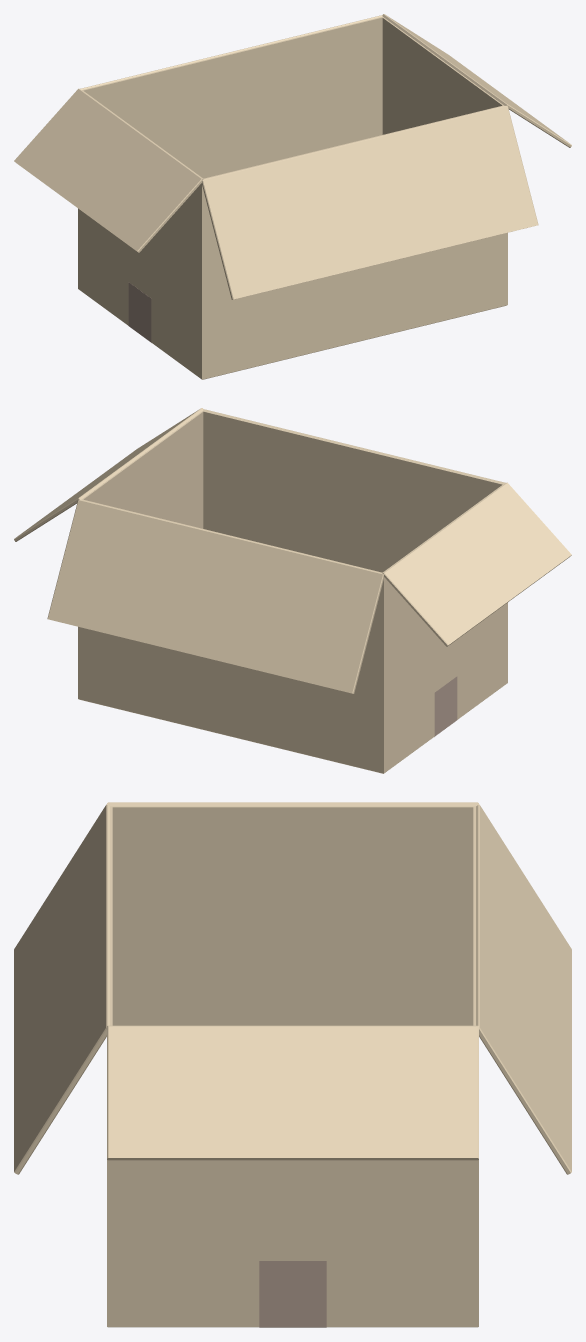
File: 068_ダンボール中開.glb
3 renders of one model, top to bottom at view 1: azimuth 30°, elevation 25°; view 2: azimuth 150°, elevation 25°; view 3: azimuth 270°, elevation 25°, orthographic. The views are drawn at different scales.
Visible parts, largest first — view 1: Body.001; view 2: Body.001; view 3: Body.001.
Boxes of the visible parts, x1=… form: Body.001: x1=14, y1=14, x2=571, y2=379; Body.001: x1=14, y1=408, x2=571, y2=773; Body.001: x1=14, y1=802, x2=571, y2=1327.
Bounding box in the file's own units: 0.6681 × 0.2956 × 0.4954.
